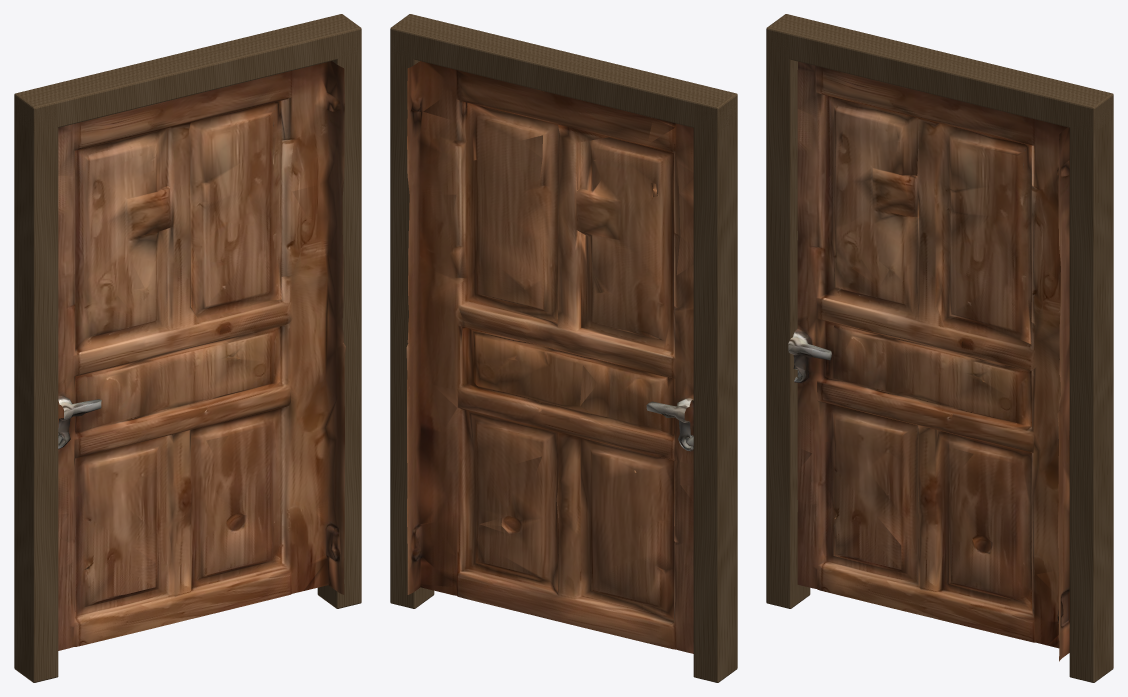
File: door.glb
The picture shows the model from 3 angles, left to right: view 1: azimuth 30°, elevation 25°; view 2: azimuth 150°, elevation 25°; view 3: azimuth 330°, elevation 25°; orthographic projection.
Visible parts, largest first — view 1: DoorLeaf, DoorFrame; view 2: DoorLeaf, DoorFrame; view 3: DoorLeaf, DoorFrame.
Part boxes in pixels (x1,y1,x2,y2): DoorLeaf: [58, 61, 345, 650]; DoorFrame: [14, 14, 361, 682]; DoorLeaf: [406, 61, 693, 653]; DoorFrame: [390, 14, 737, 682]; DoorLeaf: [788, 61, 1069, 661]; DoorFrame: [766, 14, 1113, 682].
Size of the model in its own units: 2.08 by 3.48 by 0.4357.
2 materials, 2 textured.
